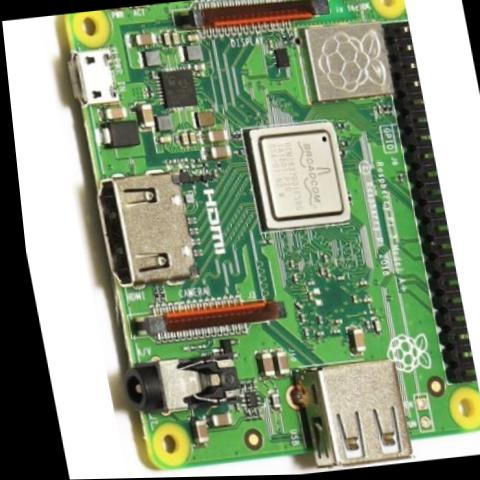Raspberry-Pi-3-Model-A-: (41, 0, 480, 479)
